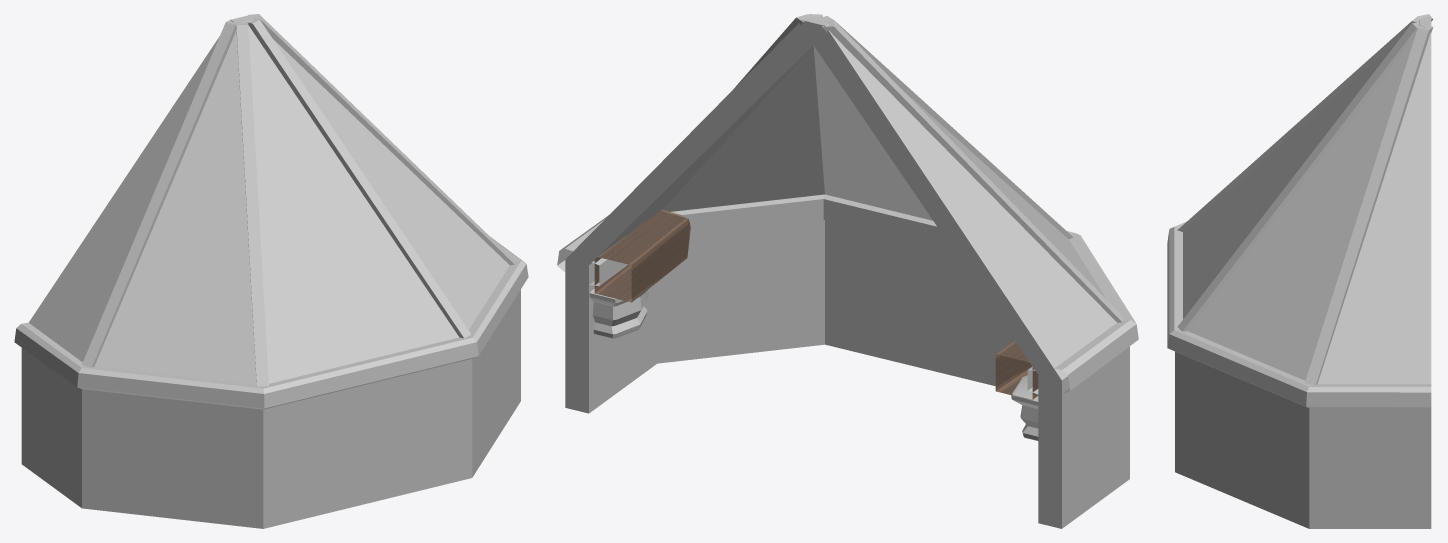
The model's file is SM_OctagonalRoof_02.fbx.
The picture shows the model from 3 angles, left to right: view 1: azimuth 30°, elevation 25°; view 2: azimuth 150°, elevation 25°; view 3: azimuth 270°, elevation 25°; orthographic projection. The views are drawn at different scales.
Parts seen in each view (by area): view 1: SM_OctagonalRoof_02_LOD0; view 2: SM_OctagonalRoof_02_LOD0; view 3: SM_OctagonalRoof_02_LOD0.
Part boxes in pixels (<box>): SM_OctagonalRoof_02_LOD0: <box>14,14,528,528</box>; SM_OctagonalRoof_02_LOD0: <box>557,14,1138,528</box>; SM_OctagonalRoof_02_LOD0: <box>1167,14,1433,528</box>.
Bounding box in the file's own units: 1085 × 545 × 900.
